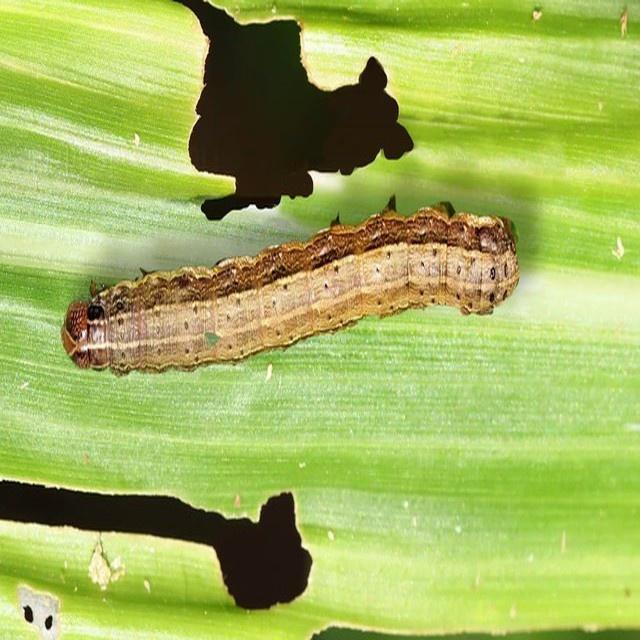gusano_cogollero: (59, 187, 523, 380)
